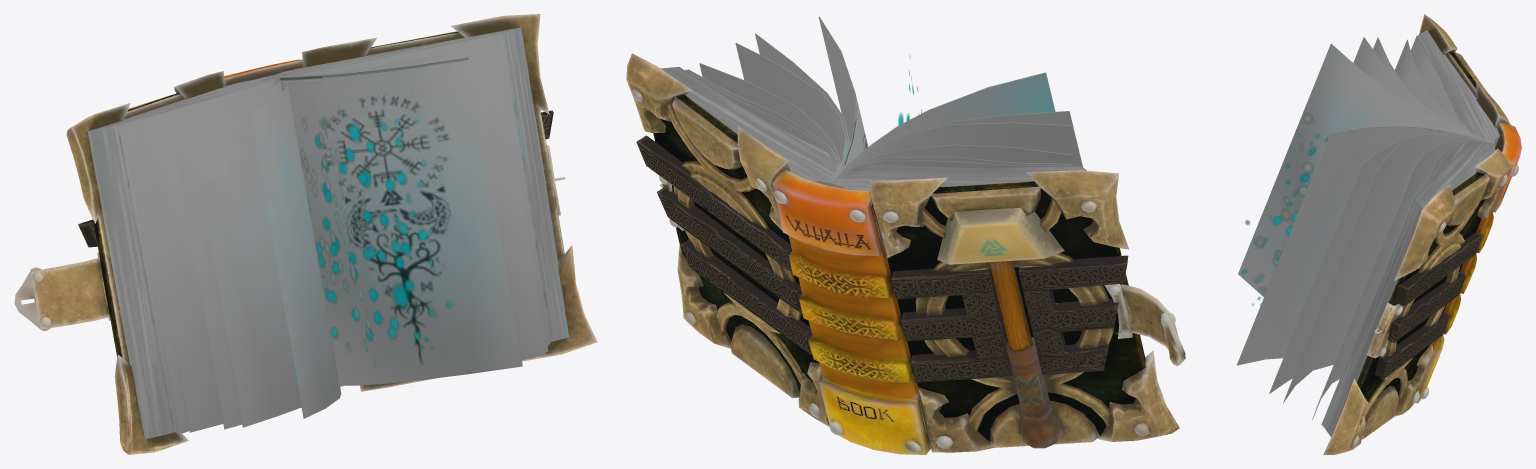
Rendered from Book-transformed.glb.
3 renders of one model, left to right at view 1: azimuth 30°, elevation 25°; view 2: azimuth 150°, elevation 25°; view 3: azimuth 270°, elevation 25°, orthographic. The views are drawn at different scales.
Parts seen in each view (by area): view 1: Object_3, Object_2; view 2: Object_2, Object_3; view 3: Object_3, Object_2.
Boxes of the visible parts, x1,y1,x2,y2 form: Object_3: (87, 27, 568, 439); Object_2: (14, 14, 597, 454); Object_2: (626, 53, 1185, 454); Object_3: (660, 16, 1086, 190); Object_3: (1237, 30, 1499, 436); Object_2: (1323, 14, 1521, 454).
Bounding box in the file's own units: 456 × 292 × 267.
Materials: 2 (2 with a texture image).
